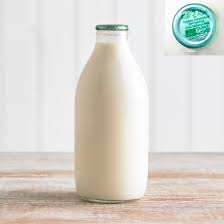milk: (74, 15, 153, 201)
